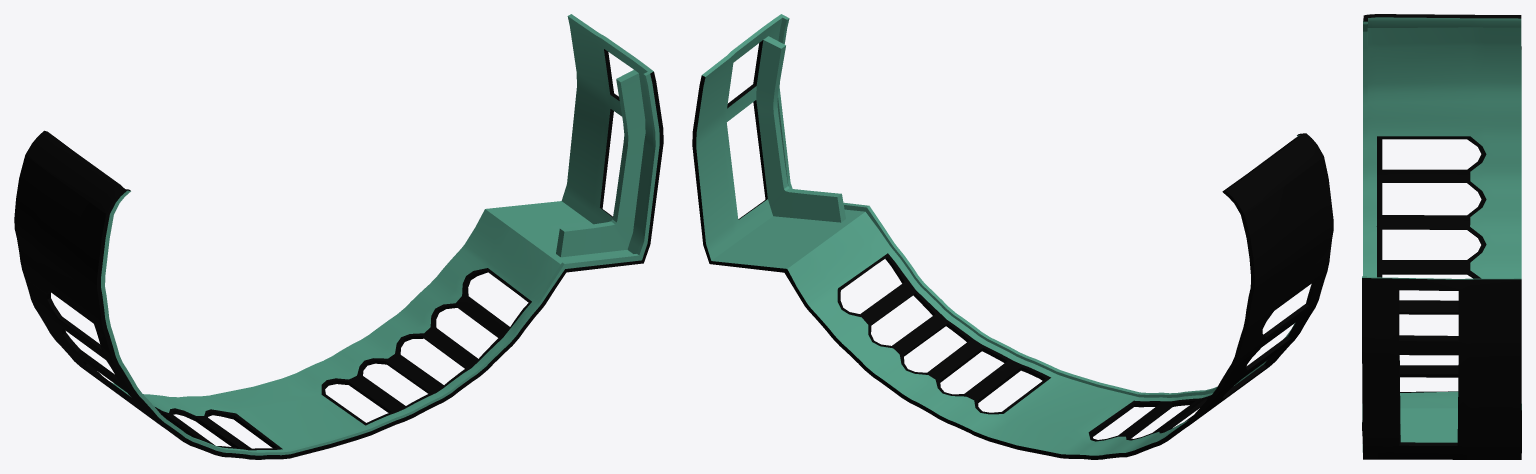
File: Resturant_walls.fbx
The picture shows the model from 3 angles, left to right: view 1: azimuth 30°, elevation 25°; view 2: azimuth 150°, elevation 25°; view 3: azimuth 270°, elevation 25°; orthographic projection. The views are drawn at different scales.
Visible parts, largest first — view 1: Cylinder.003; view 2: Cylinder.003; view 3: Cylinder.003.
Boxes of the visible parts, x1,y1,x2,y2 form: Cylinder.003: [14, 14, 663, 459]; Cylinder.003: [692, 14, 1333, 459]; Cylinder.003: [1362, 14, 1521, 459].
Bounding box in the file's own units: 940 × 493 × 233.
